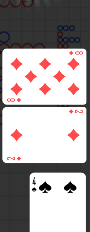4C: (30, 176, 37, 194)
8D: (6, 97, 22, 104)
